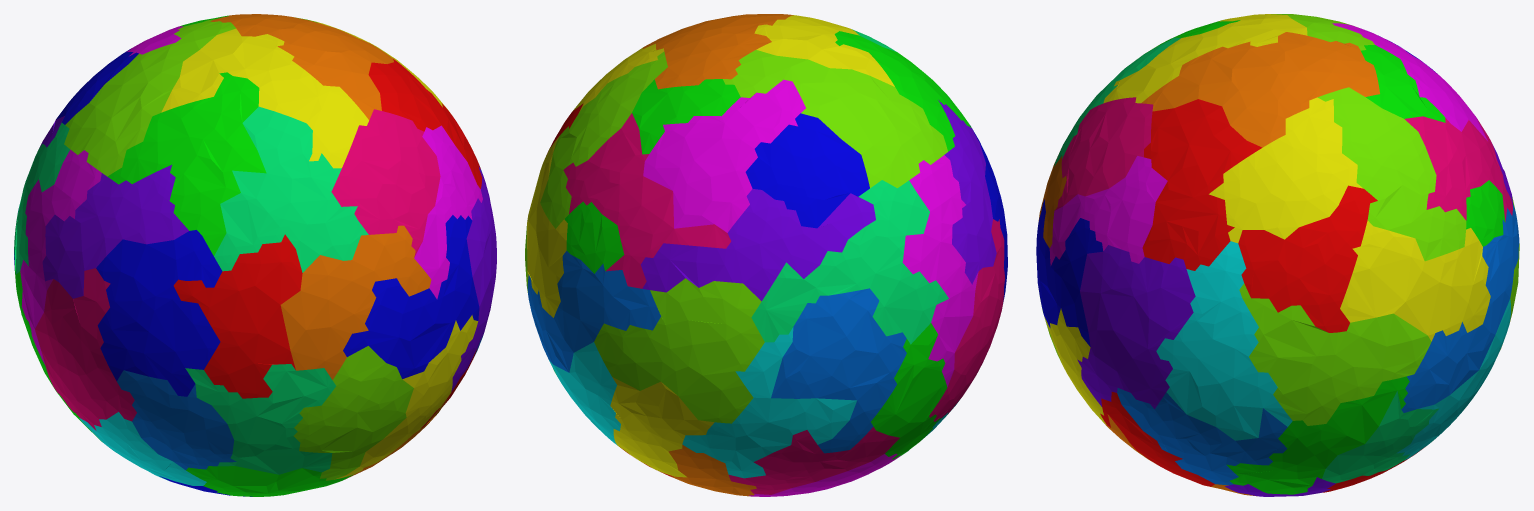
Rendered from SphereH_nanite_LOD2.fbx.
The picture shows the model from 3 angles, left to right: view 1: azimuth 30°, elevation 25°; view 2: azimuth 150°, elevation 25°; view 3: azimuth 270°, elevation 25°; orthographic projection.
Size of the model in its own units: 2 by 2 by 2.
